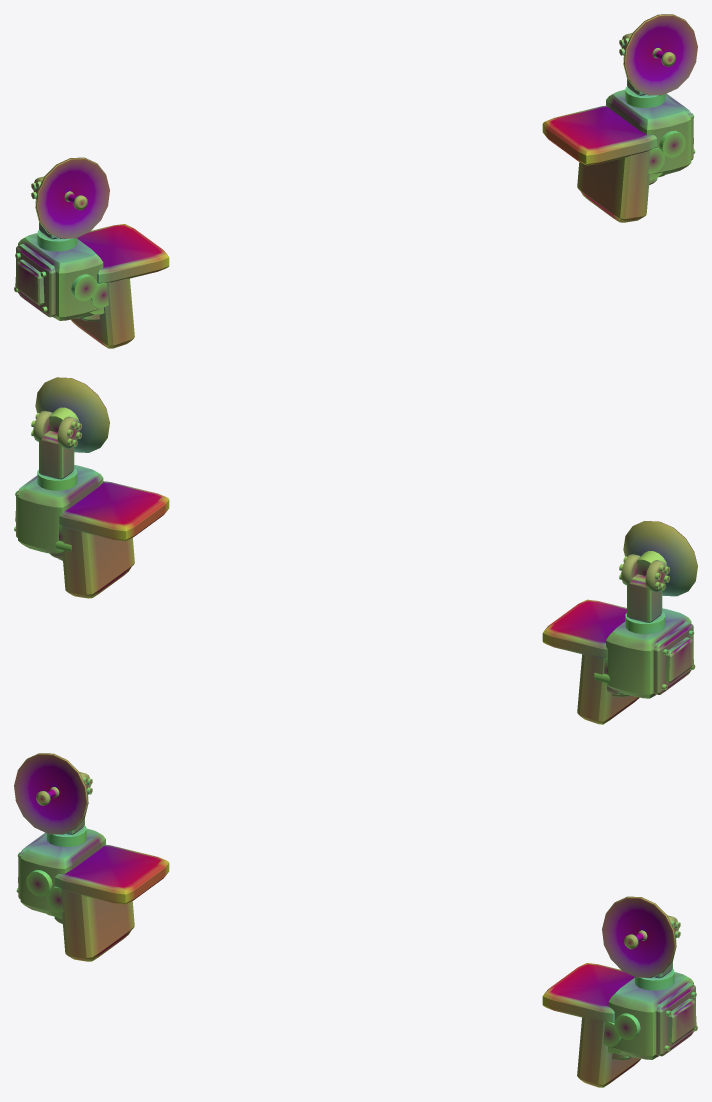
Rendered from llm_gen_shoulder_pods_083_0b55af.glb.
3 renders of one model, top to bottom at view 1: azimuth 30°, elevation 25°; view 2: azimuth 150°, elevation 25°; view 3: azimuth 330°, elevation 25°, orthographic.
Visible parts, largest first — view 1: adapter_shoulder_yoke_r, adapter_shoulder_yoke_l, parabolic_dish_5_wing_white_r, parabolic_dish_5_wing_white_l, radar_housing_0_wing_white_l, radar_housing_0_wing_white_r, adapter_sub_ew_bezel_dark_7_adapter_dark_l, ew_side_plate_blue_8_titanium_silver_l, recon_optic_9_optic_cyan_l, recon_optic_9_optic_cyan_r, adapter_sub_azimuth_base_dark_1_adapter_dark_r, adapter_sub_azimuth_base_dark_1_adapter_dark_l; view 2: adapter_shoulder_yoke_r, adapter_shoulder_yoke_l, radar_housing_0_wing_white_r, radar_housing_0_wing_white_l, parabolic_dish_5_wing_white_r, parabolic_dish_5_wing_white_l, adapter_sub_dish_pedestal_dark_2_adapter_dark_r, adapter_sub_dish_pedestal_dark_2_adapter_dark_l, adapter_sub_ew_bezel_dark_7_adapter_dark_l, ew_side_plate_blue_8_titanium_silver_l, servo_3_servo_accent_r, servo_3_servo_accent_l (+2 smaller); view 3: adapter_shoulder_yoke_l, adapter_shoulder_yoke_r, parabolic_dish_5_wing_white_l, parabolic_dish_5_wing_white_r, radar_housing_0_wing_white_r, radar_housing_0_wing_white_l, adapter_sub_ew_bezel_dark_7_adapter_dark_r, ew_side_plate_blue_8_titanium_silver_r, recon_optic_9_optic_cyan_r, recon_optic_9_optic_cyan_l, adapter_sub_azimuth_base_dark_1_adapter_dark_l, adapter_sub_azimuth_base_dark_1_adapter_dark_r.
Part boxes in pixels (left/top/right/bottom): adapter_shoulder_yoke_r: left=542, top=105, right=665, bottom=222; adapter_shoulder_yoke_l: left=71, top=224, right=169, bottom=348; parabolic_dish_5_wing_white_r: left=623, top=14, right=697, bottom=95; parabolic_dish_5_wing_white_l: left=35, top=157, right=109, bottom=239; radar_housing_0_wing_white_l: left=18, top=233, right=103, bottom=320; radar_housing_0_wing_white_r: left=606, top=89, right=691, bottom=175; adapter_sub_ew_bezel_dark_7_adapter_dark_l: left=16, top=244, right=55, bottom=317; ew_side_plate_blue_8_titanium_silver_l: left=14, top=253, right=47, bottom=312; recon_optic_9_optic_cyan_l: left=71, top=274, right=97, bottom=300; recon_optic_9_optic_cyan_r: left=659, top=130, right=685, bottom=157; adapter_sub_azimuth_base_dark_1_adapter_dark_r: left=625, top=86, right=665, bottom=108; adapter_sub_azimuth_base_dark_1_adapter_dark_l: left=37, top=230, right=77, bottom=251; adapter_shoulder_yoke_r: left=58, top=481, right=169, bottom=598; adapter_shoulder_yoke_l: left=542, top=599, right=639, bottom=724; radar_housing_0_wing_white_r: left=18, top=465, right=103, bottom=553; radar_housing_0_wing_white_l: left=606, top=608, right=691, bottom=698; parabolic_dish_5_wing_white_r: left=35, top=377, right=109, bottom=452; parabolic_dish_5_wing_white_l: left=623, top=521, right=697, bottom=596; adapter_sub_dish_pedestal_dark_2_adapter_dark_r: left=39, top=431, right=74, bottom=479; adapter_sub_dish_pedestal_dark_2_adapter_dark_l: left=627, top=574, right=662, bottom=622; adapter_sub_ew_bezel_dark_7_adapter_dark_l: left=653, top=621, right=693, bottom=694; ew_side_plate_blue_8_titanium_silver_l: left=662, top=630, right=695, bottom=689; servo_3_servo_accent_r: left=33, top=410, right=79, bottom=449; servo_3_servo_accent_l: left=621, top=554, right=667, bottom=592; adapter_shoulder_yoke_l: left=46, top=844, right=169, bottom=961; adapter_shoulder_yoke_r: left=542, top=963, right=640, bottom=1087; parabolic_dish_5_wing_white_l: left=14, top=753, right=88, bottom=834; parabolic_dish_5_wing_white_r: left=602, top=896, right=676, bottom=978; radar_housing_0_wing_white_r: left=608, top=972, right=693, bottom=1059; radar_housing_0_wing_white_l: left=20, top=828, right=105, bottom=914; adapter_sub_ew_bezel_dark_7_adapter_dark_r: left=656, top=983, right=695, bottom=1056; ew_side_plate_blue_8_titanium_silver_r: left=664, top=992, right=697, bottom=1051; recon_optic_9_optic_cyan_r: left=614, top=1013, right=640, bottom=1039; recon_optic_9_optic_cyan_l: left=26, top=869, right=52, bottom=896; adapter_sub_azimuth_base_dark_1_adapter_dark_l: left=46, top=825, right=86, bottom=847; adapter_sub_azimuth_base_dark_1_adapter_dark_r: left=634, top=969, right=674, bottom=990.
Bounding box in the file's own units: 107 × 29.43 × 13.53.
